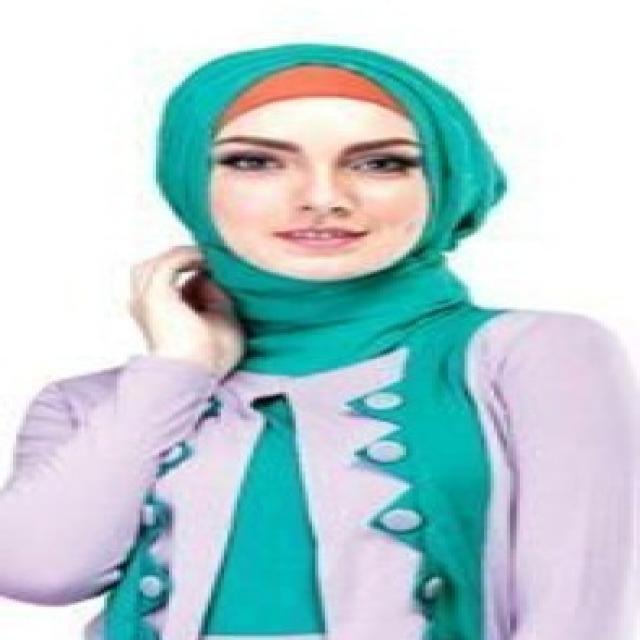head: (157, 40, 509, 289)
